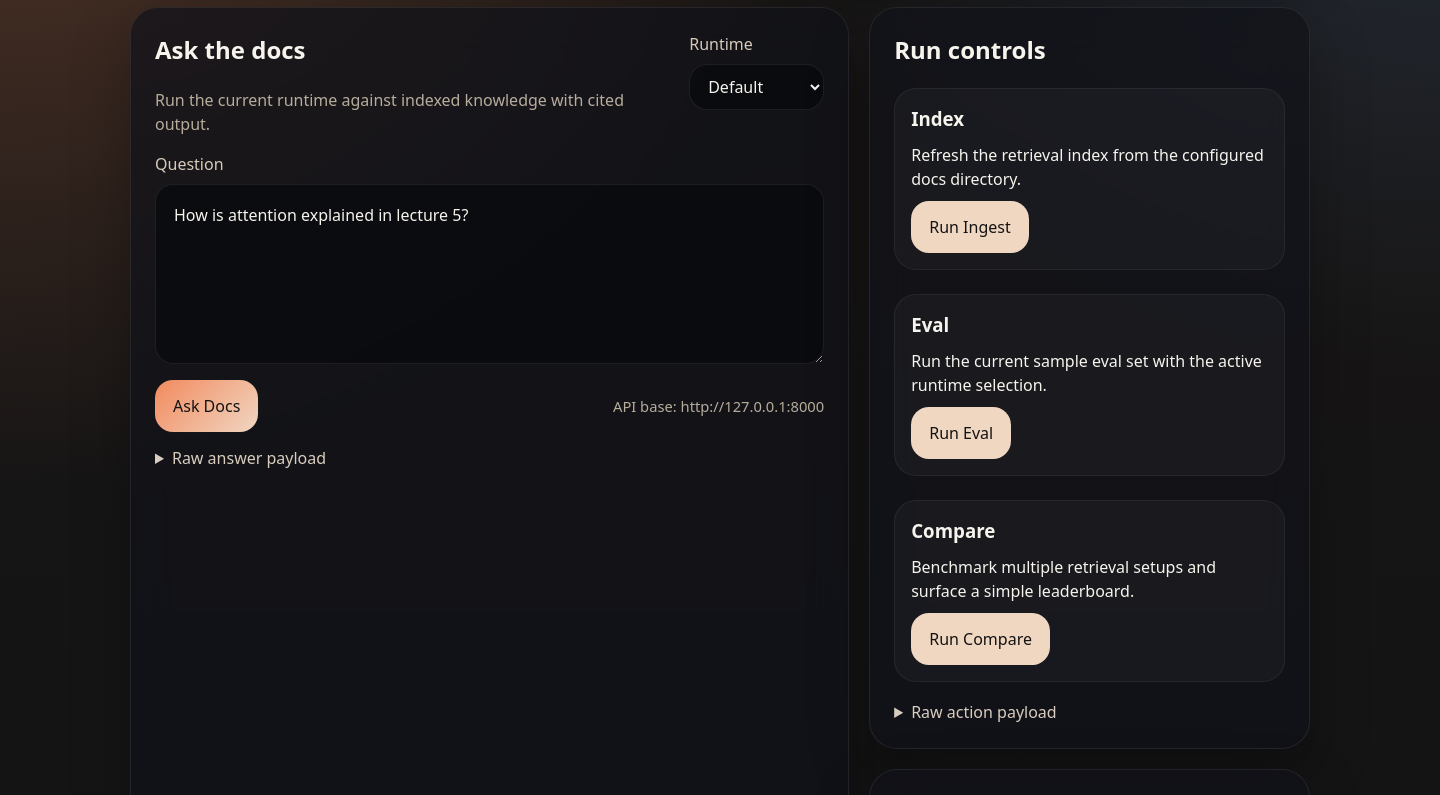
Test: clears an ask failure after a successful retry
(page scrolled)
Step 1. Click the button "Ask Docs" → point(207, 406), box [155,380,258,432]
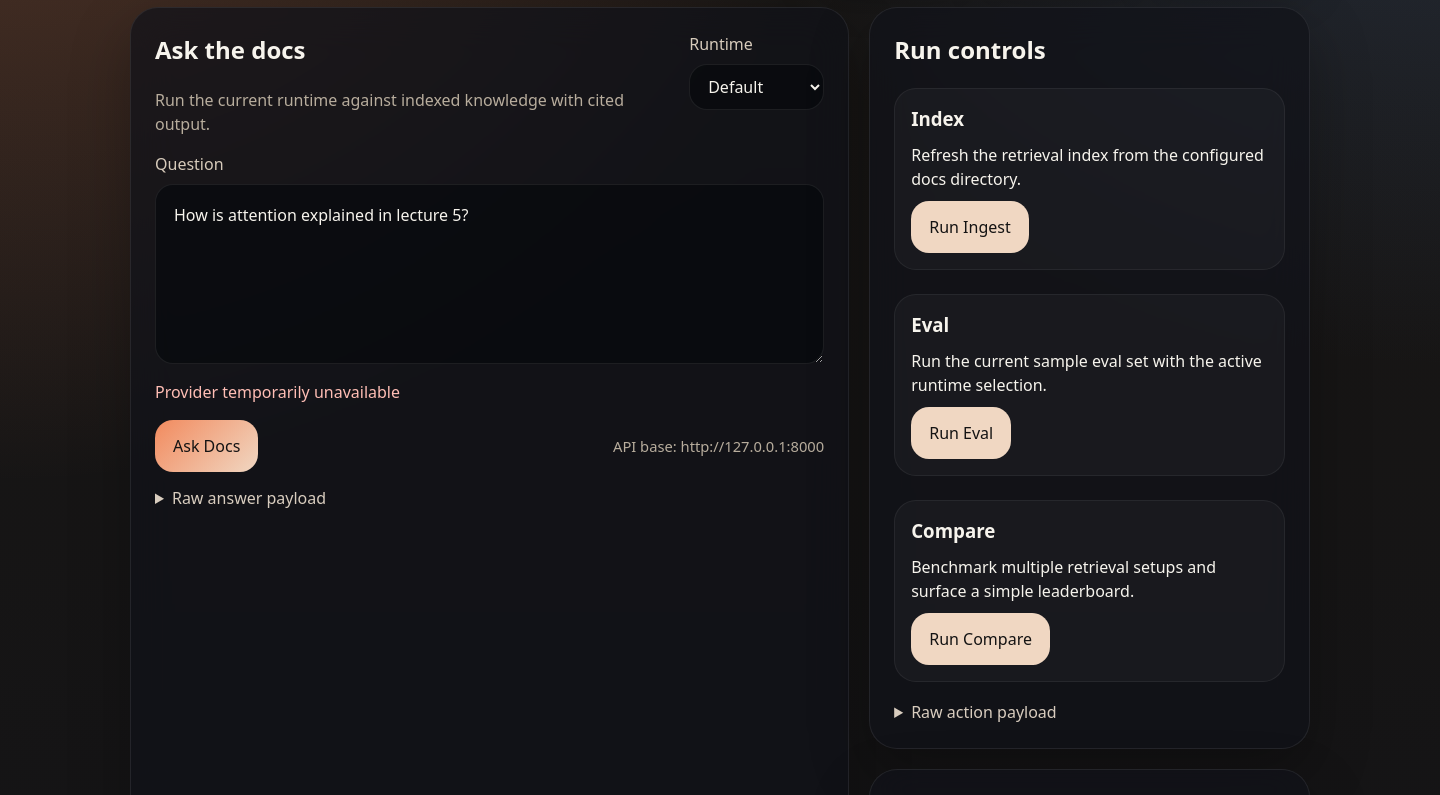
Result: the message reads "Provider temporarily unavailable" at [155,381,400,403]
Step 2. Click the button "Ask Docs" → point(207, 446), box [155,420,258,472]
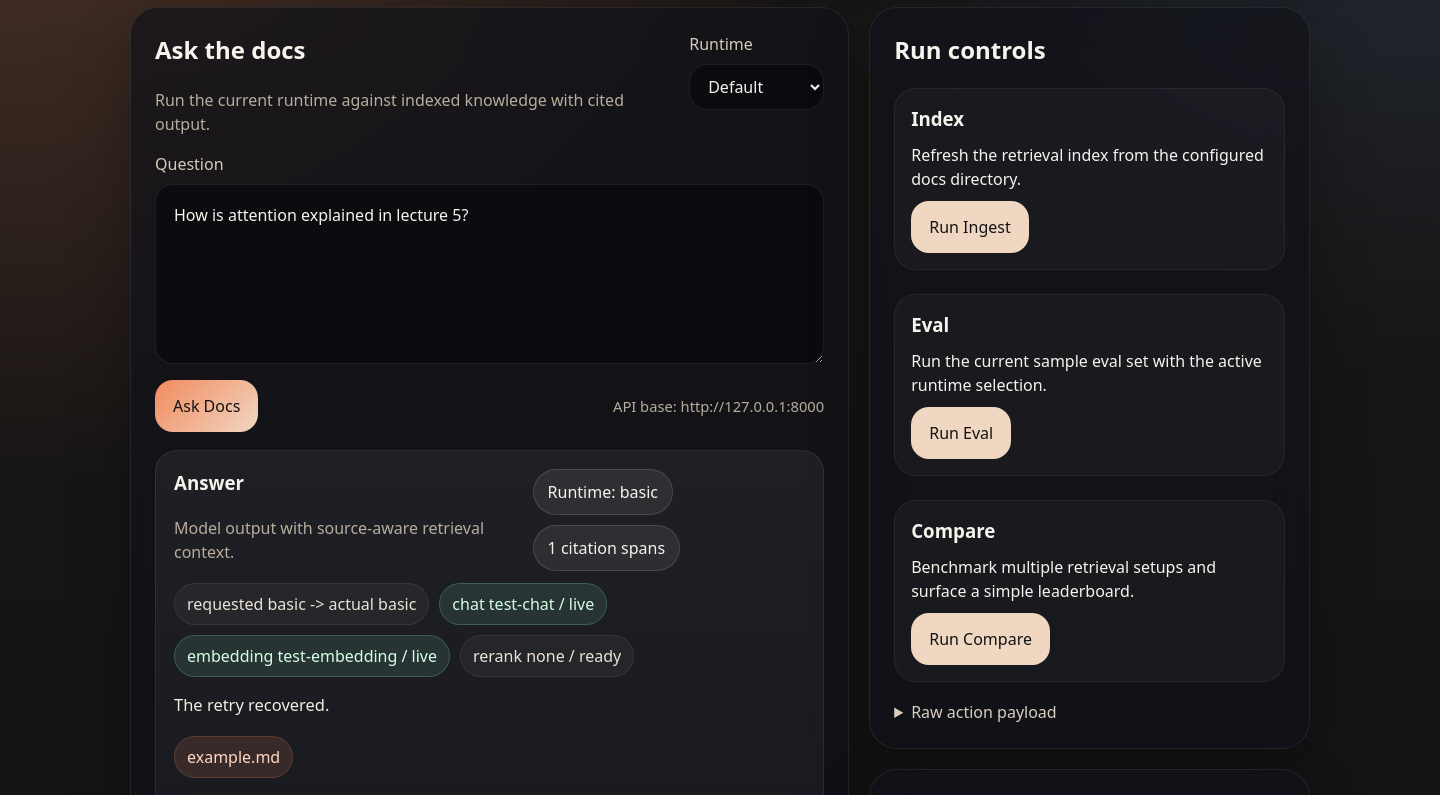
Result: the text "The retry recovered." is shown at [174,693,329,716]
Result: the message "Provider temporarily unavailable" is gone
